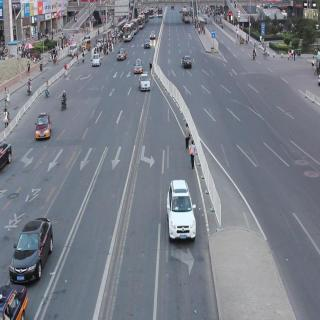Car: (16, 212, 52, 280), (166, 180, 197, 247), (36, 113, 52, 144), (178, 52, 198, 70), (138, 73, 152, 95), (131, 51, 145, 73), (117, 44, 128, 64), (140, 36, 152, 54), (92, 50, 101, 68), (149, 29, 157, 42)
